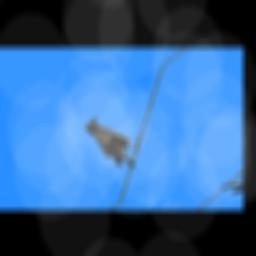Crow: (65, 115, 160, 170)
